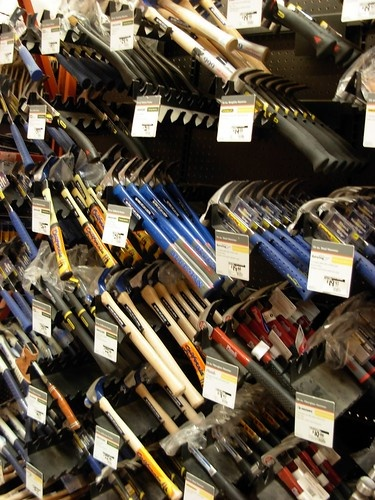hammer: (81, 268, 202, 419), (94, 154, 215, 297), (72, 375, 182, 500), (200, 181, 316, 299), (195, 301, 308, 419), (213, 68, 336, 175), (285, 194, 375, 287), (160, 421, 254, 500), (25, 165, 87, 282), (248, 439, 316, 500)
